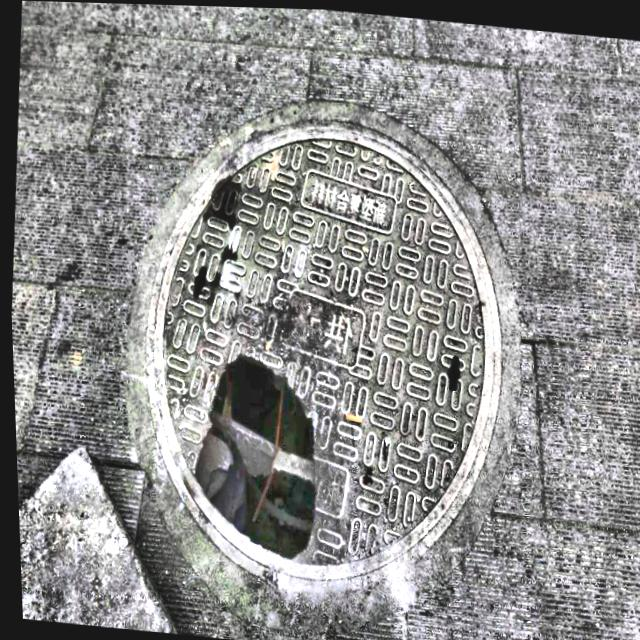open_manhole: (121, 101, 520, 640)
